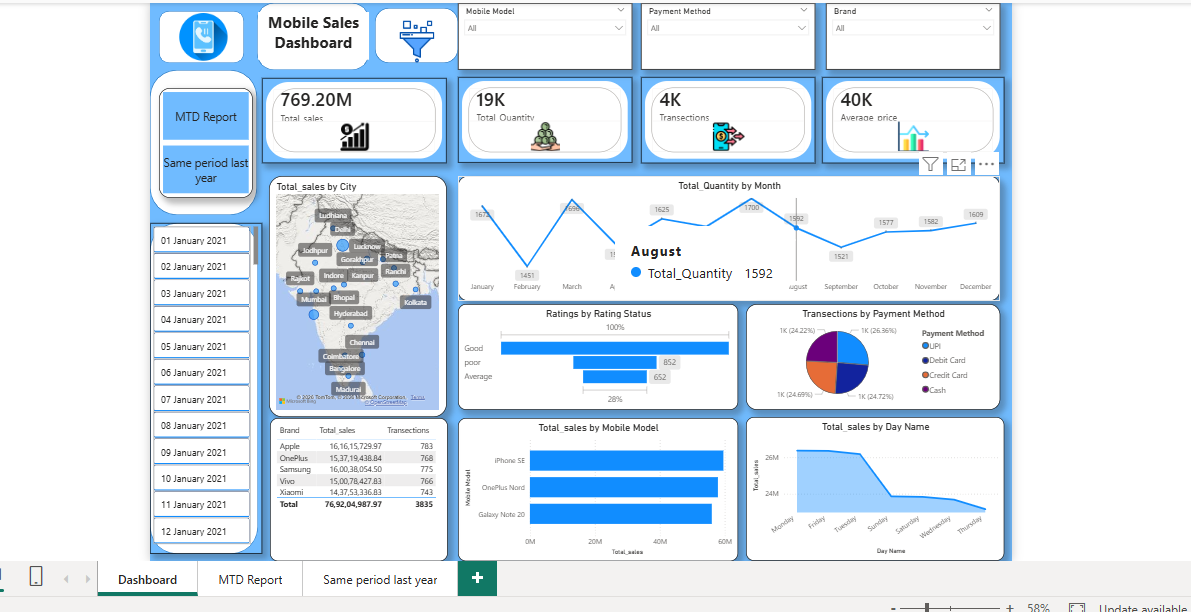

What the dashboard file says about the page in this screenshot:
{"tool":"powerbi","page":{"name":"Dashboard","canvas":[1500,970],"ordinal":0},"visuals":[{"type":"shape","box":[15.6,13.9,147.8,90.4],"z":0},{"type":"image","box":[20.9,17.4,144.3,83.4],"z":1000},{"type":"shape","box":[0,116.5,186,252.1],"z":2000},{"type":"shape","box":[0,382.4,187.7,575.4],"z":3000},{"type":"advancedSlicerVisual","fields":{"Values":["Custom_calender.Date"]},"box":[0,382.4,194.7,575.4],"z":4000},{"type":"cardVisual","fields":{"Data":["Sales_Data.Total_Quantity"]},"box":[536.1,128.3,302.5,149.3],"z":5000},{"type":"cardVisual","fields":{"Data":["Sales_Data.Transections"]},"box":[854.3,128,303.1,149.6],"z":6000},{"type":"cardVisual","fields":{"Data":["Sales_Data.Average_price"]},"box":[1167.3,128,316.9,149.6],"z":7000},{"type":"cardVisual","fields":{"Data":["Sales_Data.Total_sales"]},"box":[194.9,129.9,320.9,147.6],"z":8000},{"type":"slicer","fields":{"Values":["Sales_Data.Mobile Model"]},"box":[535.4,0,303.1,116.1],"z":9000},{"type":"slicer","fields":{"Values":["Sales_Data.Payment Method"]},"box":[854.3,0,303.1,116.1],"z":10000},{"type":"slicer","fields":{"Values":["Sales_Data.Brand"]},"box":[1175.2,0,303.1,116.1],"z":11000},{"type":"shape","box":[391.1,8.7,144.3,95.6],"z":12000},{"type":"image","box":[365.1,29.6,198.2,74.7],"z":13000},{"type":"shape","box":[186,0,194.7,116.5],"z":14000},{"type":"textbox","box":[187.7,15.6,193,83.4],"z":15000},{"type":"map","fields":{"Category":["Sales_Data.City"],"Size":["Sales_Data.Total_sales"]},"box":[206.7,301.2,309.1,419.3],"z":16000},{"type":"lineChart","fields":{"Category":["Custom_calender.Date.Variation.Date Hierarchy.Month"],"Y":["Sales_Data.Total_Quantity"]},"box":[535.4,300.7,942.2,217.3],"z":17000},{"type":"funnel","title":" Ratings by Rating Status","fields":{"Category":["Sales_Data.Rating Status"],"Y":["CountNonNull(Sales_Data.Customer Ratings)"]},"box":[535.4,523.2,486.7,184.3],"z":18000},{"type":"pieChart","fields":{"Y":["Sales_Data.Transections"],"Category":["Sales_Data.Payment Method"]},"box":[1036.1,523.2,441.5,184.3],"z":19000},{"type":"clusteredBarChart","fields":{"Y":["Sales_Data.Total_sales"],"Category":["Sales_Data.Mobile Model"]},"box":[535.4,721.4,486.7,248.6],"z":20000},{"type":"areaChart","fields":{"Y":["Sales_Data.Total_sales"],"Category":["Custom_calender.Day Name"]},"box":[1035.4,720.5,448.8,250],"z":21000},{"type":"tableEx","fields":{"Values":["Sales_Data.Brand","Sales_Data.Total_sales","Sales_Data.Transections"]},"box":[208.6,721.4,309.4,248.6],"z":22000},{"type":"pageNavigator","box":[0,193,599.7,50.4],"z":23000},{"type":"bookmarkNavigator","box":[0,193,599.7,50.4],"z":24000},{"type":"pageNavigator","box":[15.6,147.8,163.4,191.2],"z":25000}]}

Visuals, with their boxes on the page's 1500x970 design canvas (x1, y1, x2, y2). These are canvas units, not pixel positions in the 1191x612 screenshot, which may show the page scaled, cropped or inside an application window:
shape: select_region(16, 14, 163, 104)
image: select_region(21, 17, 165, 101)
shape: select_region(0, 116, 186, 369)
shape: select_region(0, 382, 188, 958)
advancedSlicerVisual - Custom_calender.Date: select_region(0, 382, 195, 958)
cardVisual - Sales_Data.Total_Quantity: select_region(536, 128, 839, 278)
cardVisual - Sales_Data.Transections: select_region(854, 128, 1157, 278)
cardVisual - Sales_Data.Average_price: select_region(1167, 128, 1484, 278)
cardVisual - Sales_Data.Total_sales: select_region(195, 130, 516, 278)
slicer - Sales_Data.Mobile Model: select_region(535, 0, 838, 116)
slicer - Sales_Data.Payment Method: select_region(854, 0, 1157, 116)
slicer - Sales_Data.Brand: select_region(1175, 0, 1478, 116)
shape: select_region(391, 9, 535, 104)
image: select_region(365, 30, 563, 104)
shape: select_region(186, 0, 381, 116)
textbox: select_region(188, 16, 381, 99)
map - Sales_Data.City x Sales_Data.Total_sales: select_region(207, 301, 516, 720)
lineChart - Custom_calender.Date.Variation.Date Hierarchy.Month x Sales_Data.Total_Quantity: select_region(535, 301, 1478, 518)
" Ratings by Rating Status" funnel: select_region(535, 523, 1022, 708)
pieChart - Sales_Data.Transections x Sales_Data.Payment Method: select_region(1036, 523, 1478, 708)
clusteredBarChart - Sales_Data.Total_sales x Sales_Data.Mobile Model: select_region(535, 721, 1022, 970)
areaChart - Sales_Data.Total_sales x Custom_calender.Day Name: select_region(1035, 720, 1484, 970)
tableEx - Sales_Data.Brand x Sales_Data.Total_sales: select_region(209, 721, 518, 970)
pageNavigator: select_region(0, 193, 600, 243)
bookmarkNavigator: select_region(0, 193, 600, 243)
pageNavigator: select_region(16, 148, 179, 339)
